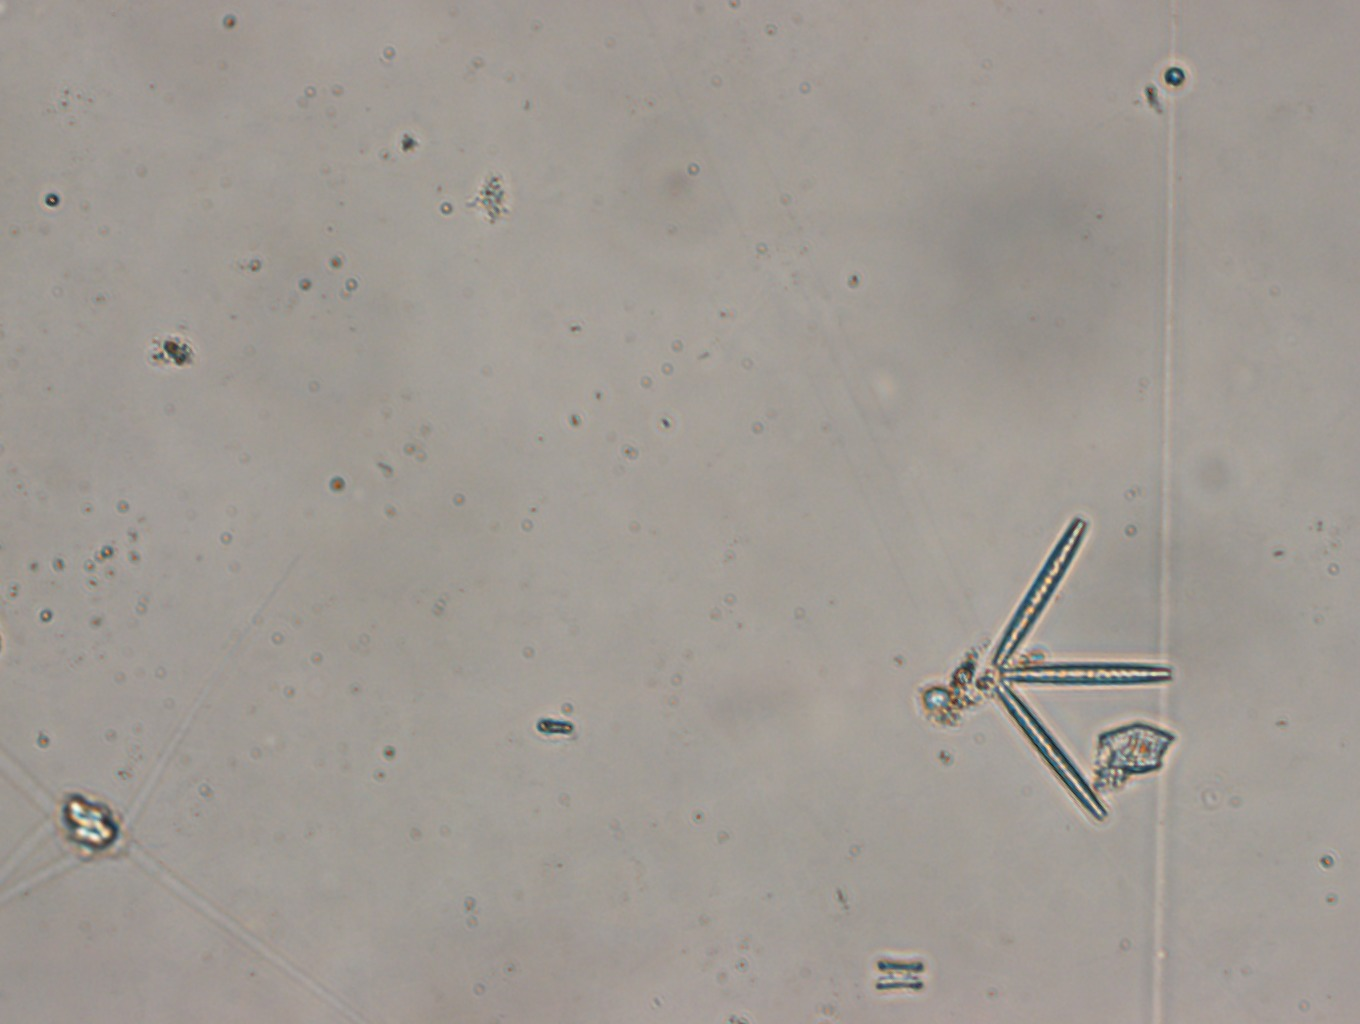thalassionema nitzschioides: (989, 514, 1176, 824)
